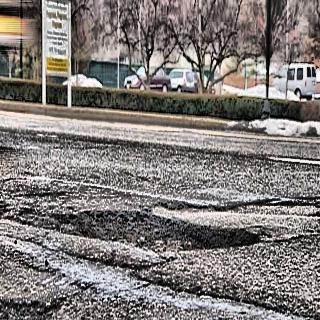pothole: (48, 188, 266, 270), (5, 280, 60, 320)
